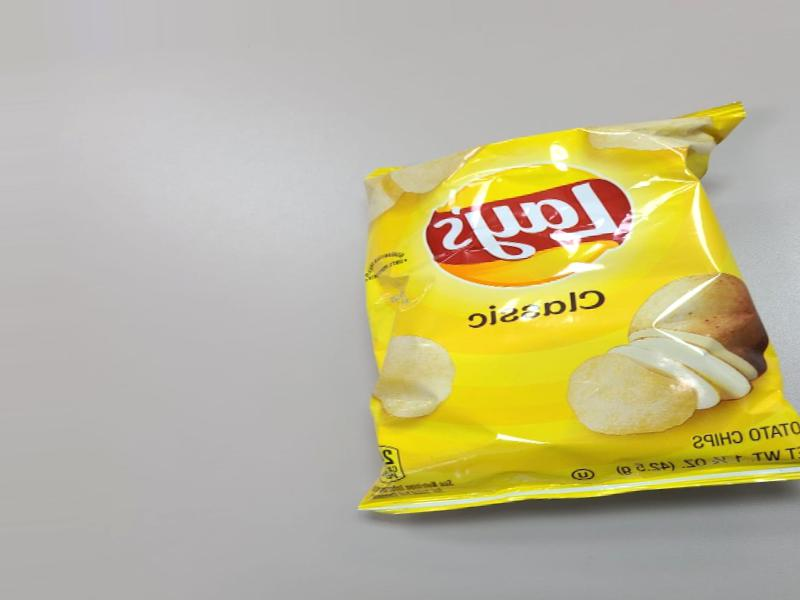lays: (380, 169, 725, 530)
